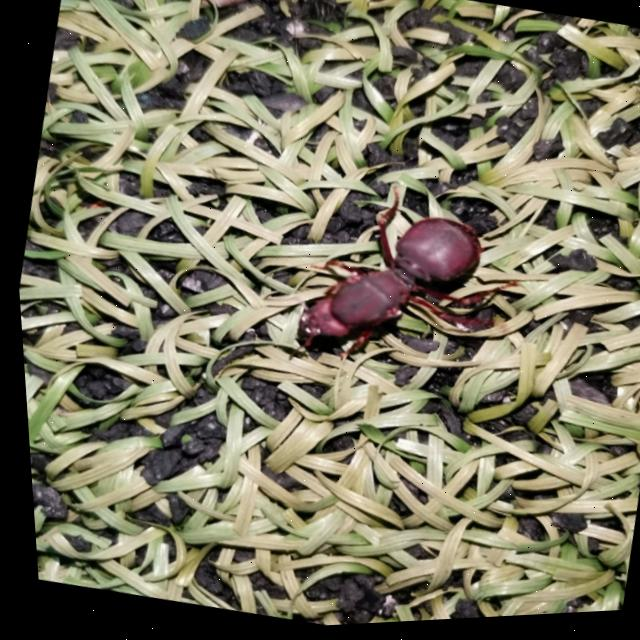Alive-Female-Dealate: (262, 167, 527, 401)
